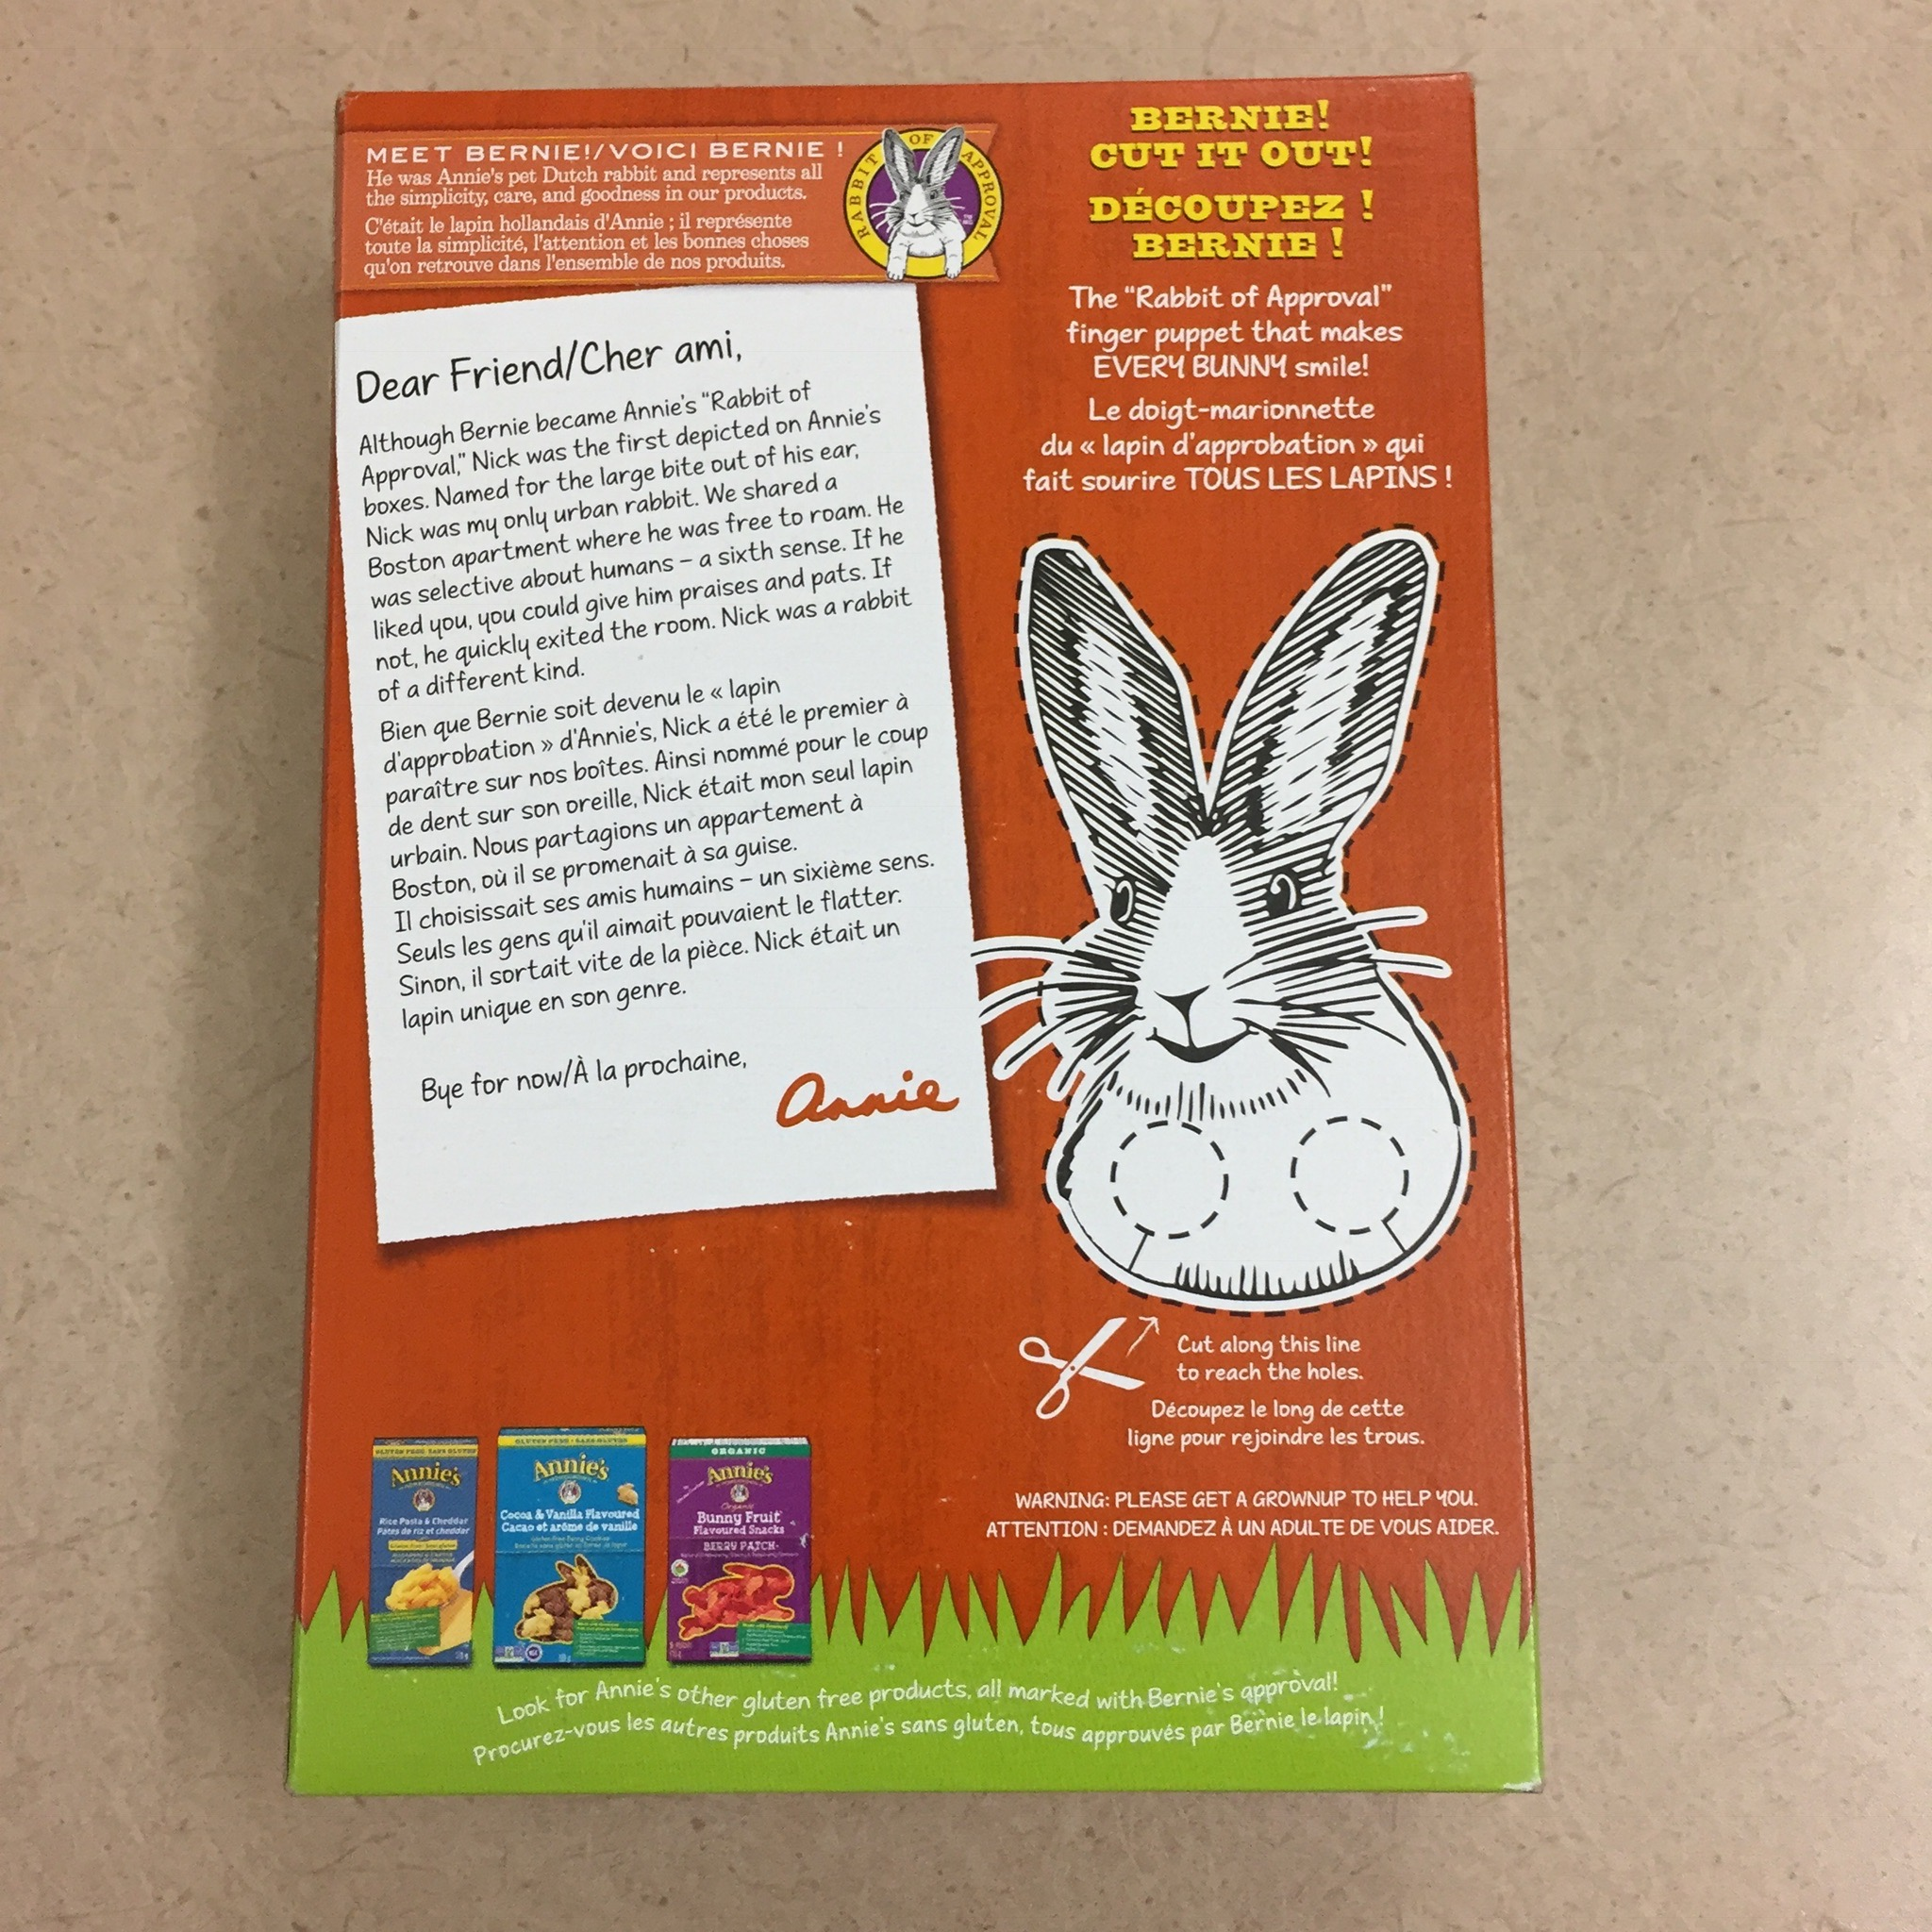annies_snickerdoodle_cinnamon_sugar: (280, 67, 1550, 1801)
